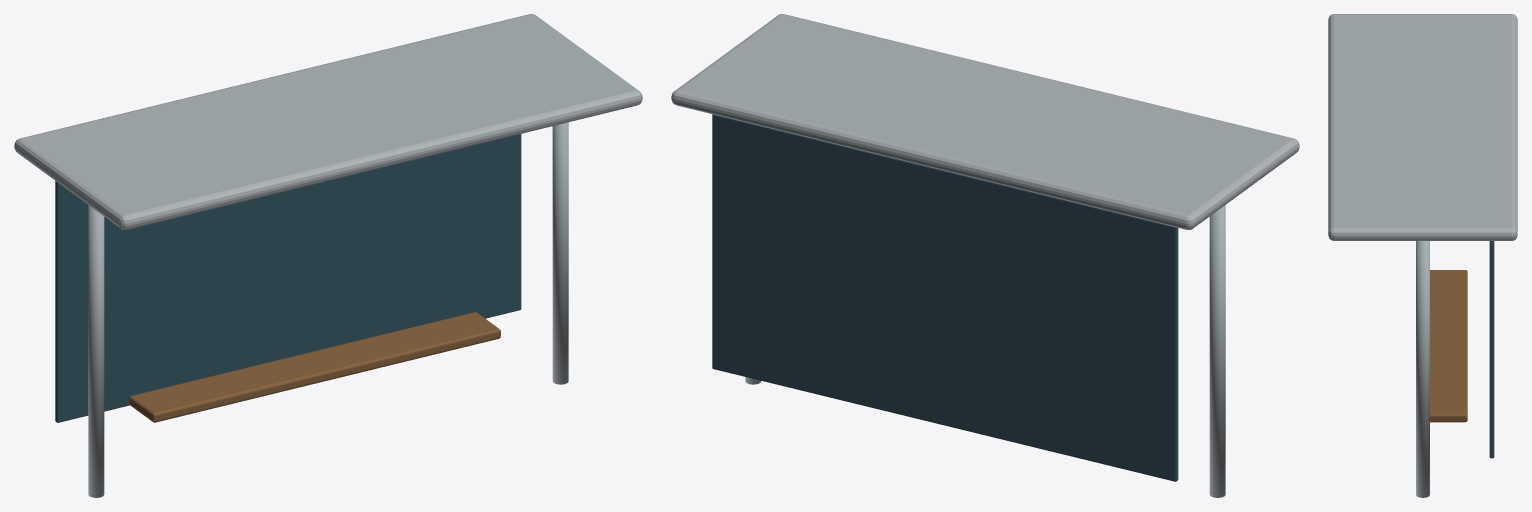
The model's file is SM_BusStop.fbx.
The picture shows the model from 3 angles, left to right: view 1: azimuth 30°, elevation 25°; view 2: azimuth 150°, elevation 25°; view 3: azimuth 270°, elevation 25°; orthographic projection. The views are drawn at different scales.
Visible parts, largest first — view 1: SM_BusStop; view 2: SM_BusStop; view 3: SM_BusStop.
Part boxes in pixels (x1,y1,x2,y2): SM_BusStop: (14,14,642,497); SM_BusStop: (671,14,1299,497); SM_BusStop: (1328,14,1517,497).
Size of the model in its own units: 450 by 165 by 266.
